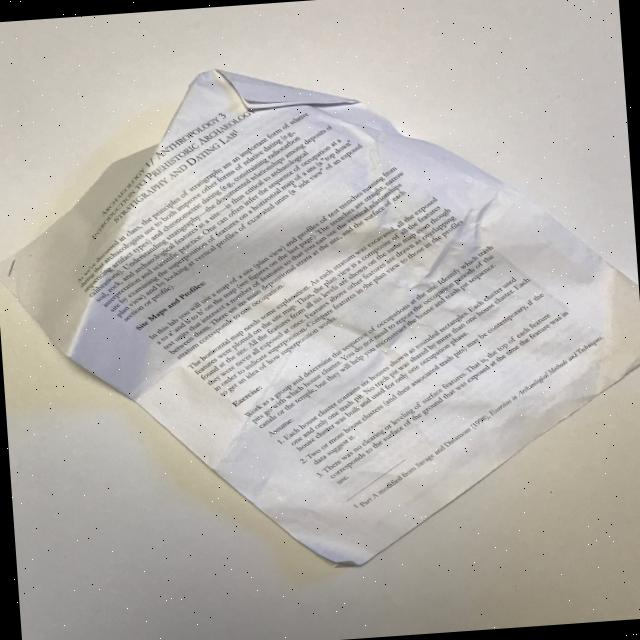paper: (0, 38, 640, 589)
